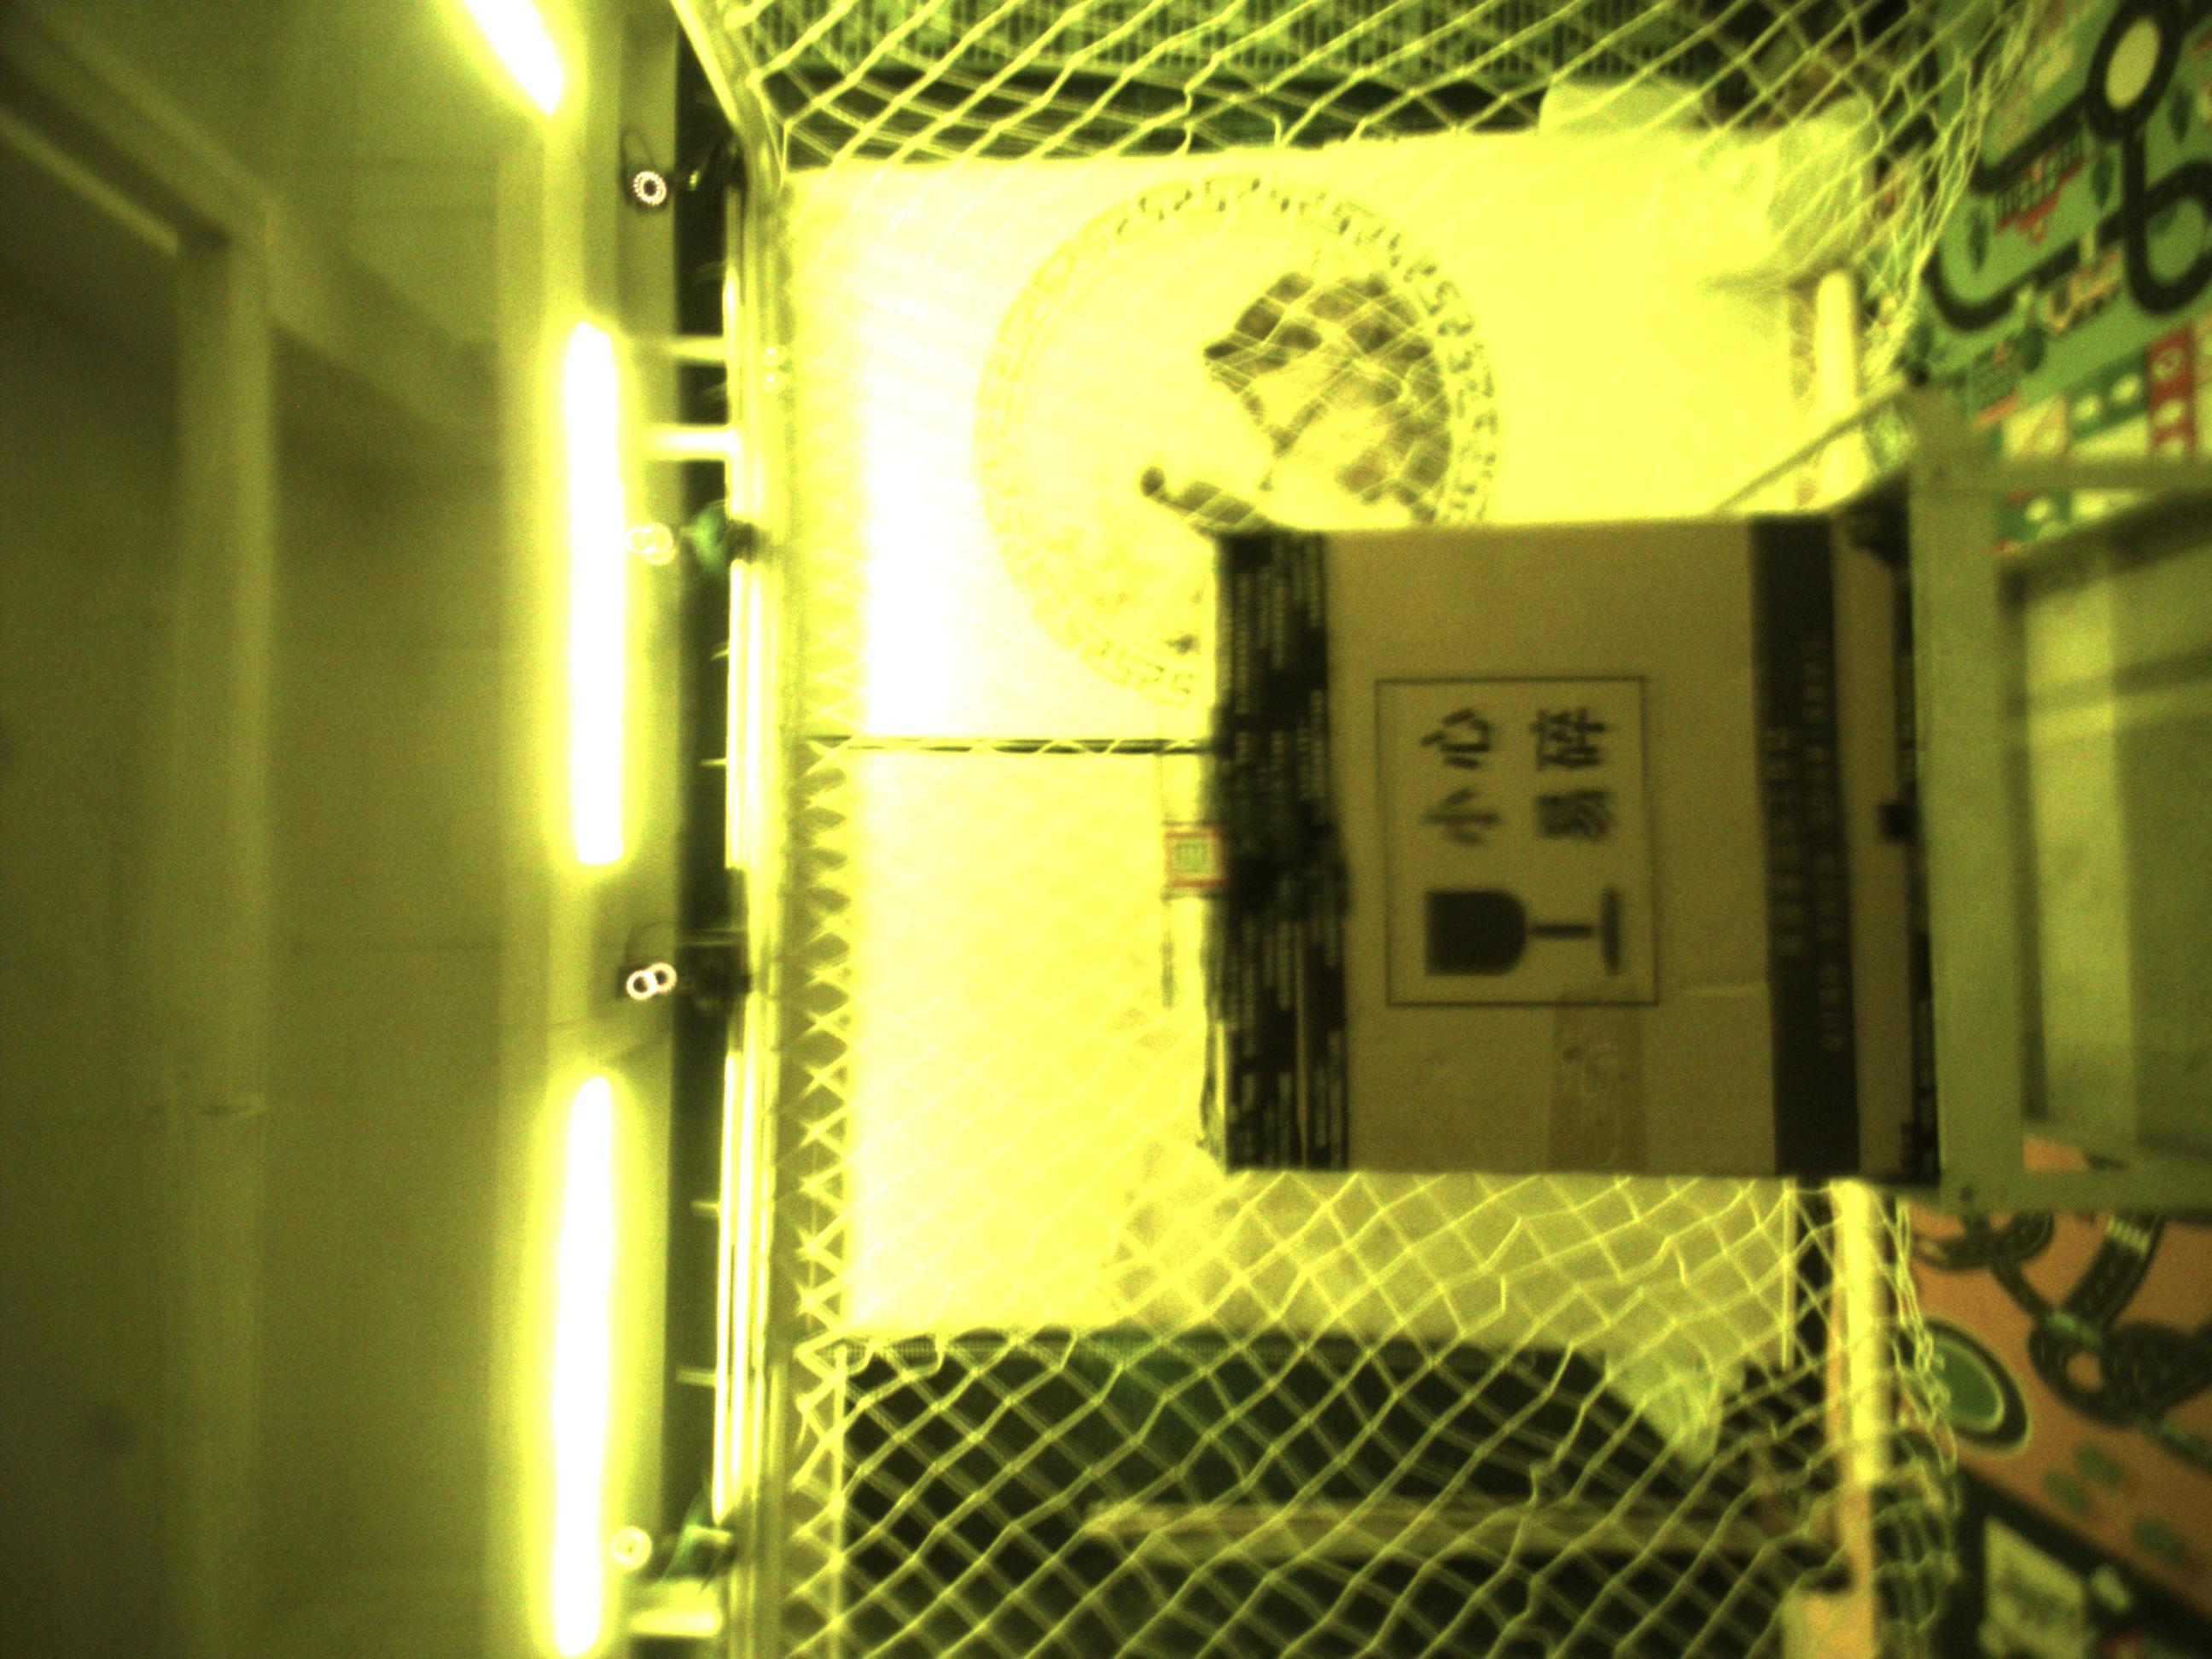outline: (1163, 831, 1226, 887)
